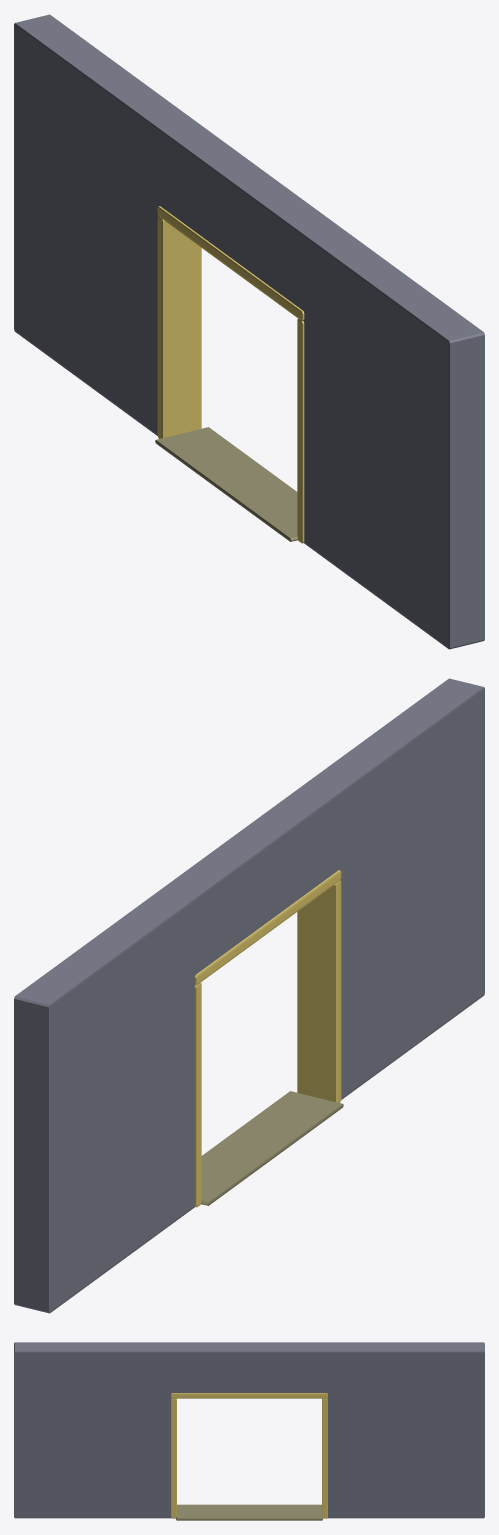
The model's file is gecis.glb.
3 views of the same model, one above another, from view 1: azimuth 30°, elevation 25°; view 2: azimuth 150°, elevation 25°; view 3: azimuth 270°, elevation 25° (orthographic). The views are drawn at different scales.
Visible parts, largest first — view 1: Gecis; view 2: Gecis; view 3: Gecis.
Boxes of the visible parts, <box> form: Gecis: <box>14,14,484,649</box>; Gecis: <box>14,678,484,1313</box>; Gecis: <box>14,1342,484,1520</box>.
Bounding box in the file's own units: 0.9 × 5 × 12.8.
